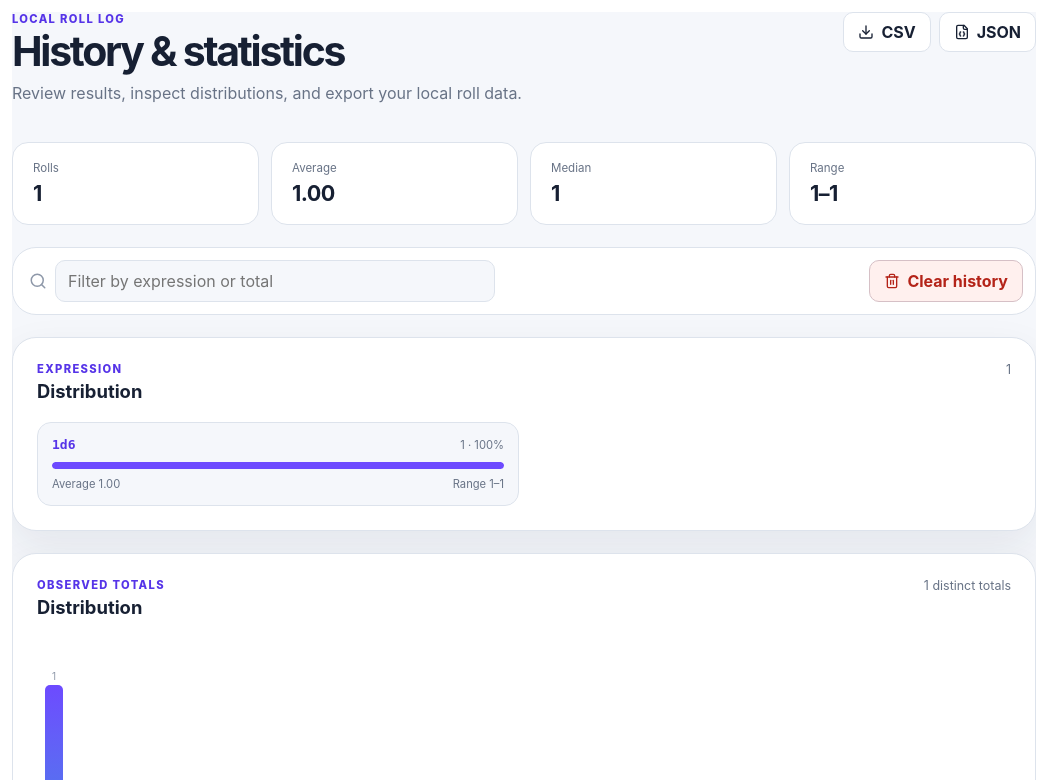
Test: HistoryPanel performance behavior › reports a successful browser history export
Click the button "CSV".
click(887, 32)  # box x1=843 y1=12 x2=931 y2=52
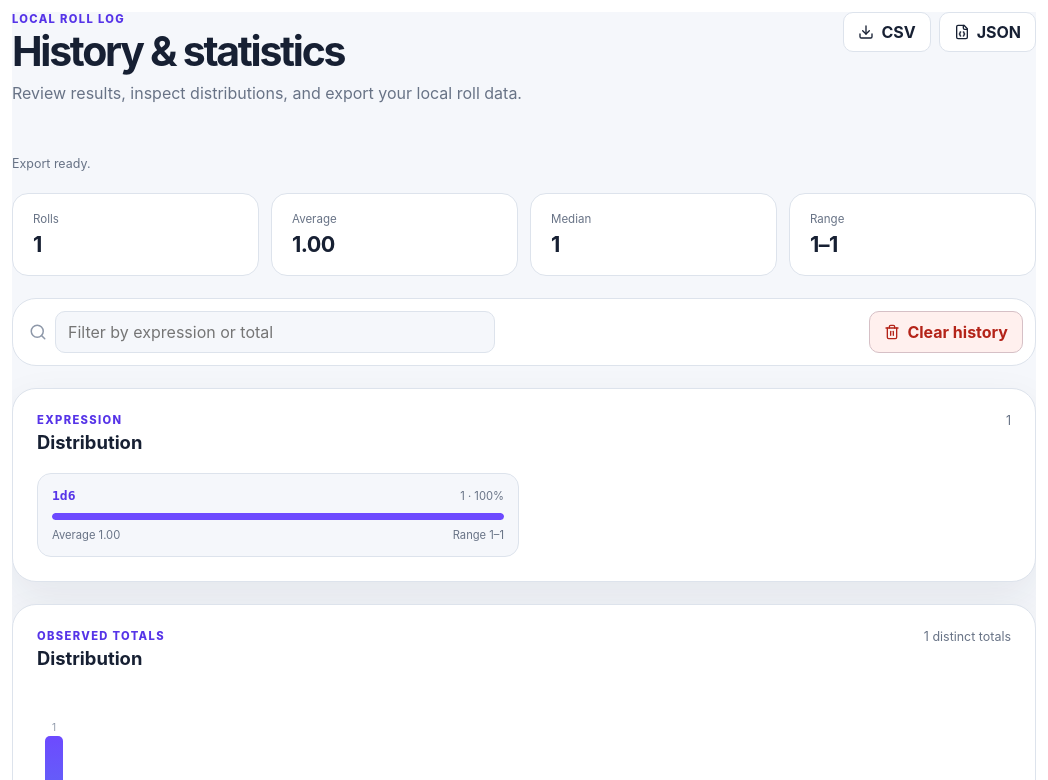
expect the message reads "Export ready.": met, box x1=12 y1=156 x2=90 y2=171
